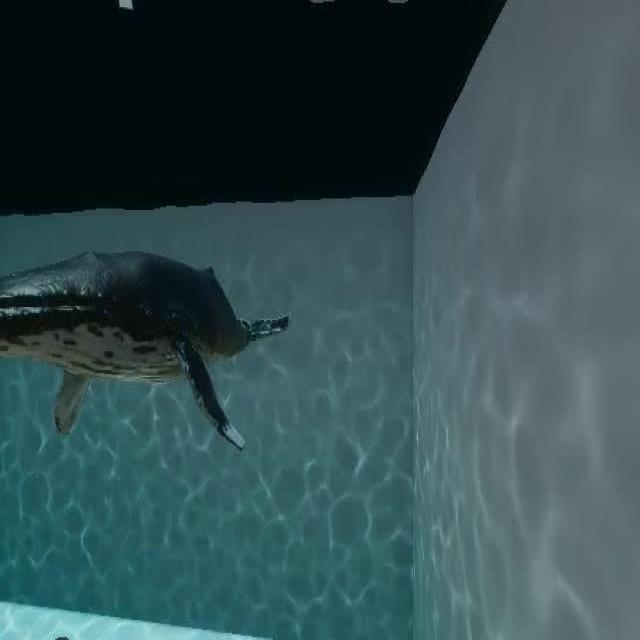Whale: (2, 239, 315, 477)
